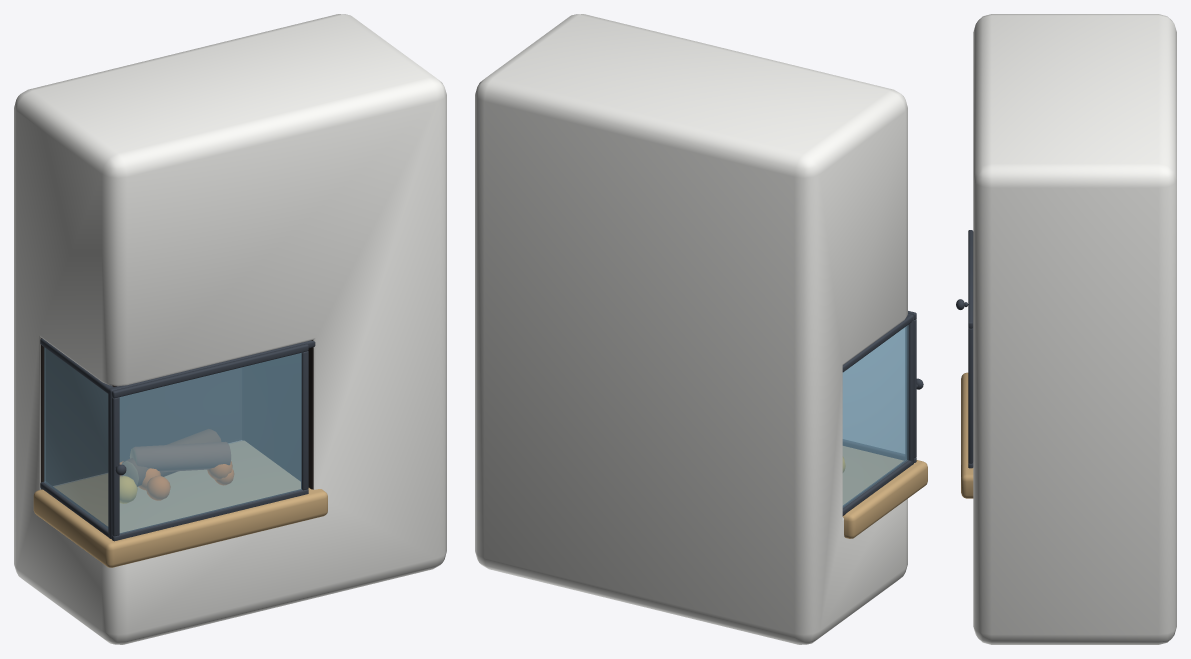
File: lareira_caixa_vidro_canto.glb
3 views of the same model, side by side, from view 1: azimuth 30°, elevation 25°; view 2: azimuth 150°, elevation 25°; view 3: azimuth 270°, elevation 25° (orthographic). The views are drawn at different scales.
Parts seen in each view (by area): view 1: lareira_caixa_vidro_canto, porta_1; view 2: lareira_caixa_vidro_canto, porta_1; view 3: lareira_caixa_vidro_canto, porta_1.
Part boxes in pixels (x1,y1,x2,y2): lareira_caixa_vidro_canto: [14, 14, 446, 644]; porta_1: [112, 343, 308, 541]; lareira_caixa_vidro_canto: [475, 14, 927, 644]; porta_1: [843, 311, 923, 462]; lareira_caixa_vidro_canto: [961, 14, 1176, 644]; porta_1: [956, 230, 973, 468].
Size of the model in its own units: 0.975 by 1.3 by 0.5426.
3 materials, 1 textured.
